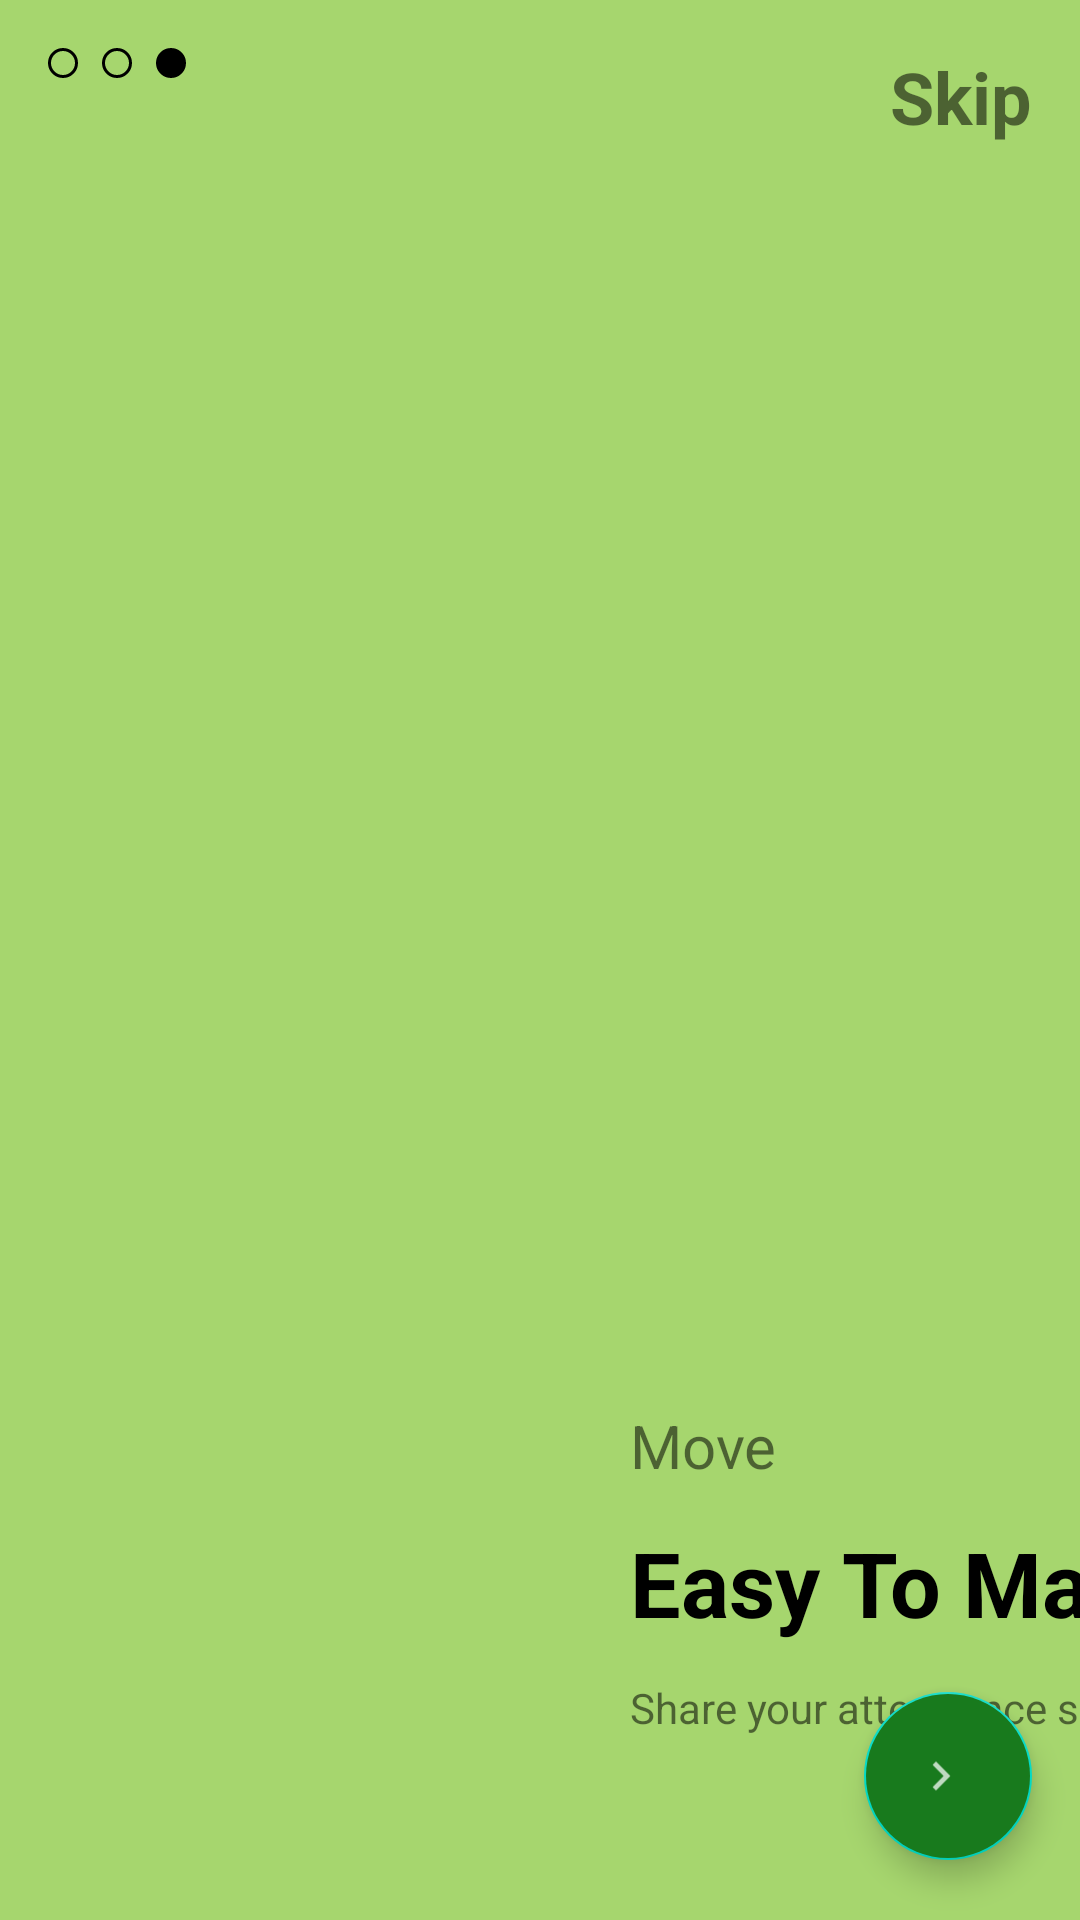

Screen size 1080px x 1920px. Icon name, then its box in pixels as (x1, y1, x2, y2):
chevron right: (864, 1692, 1032, 1860)
circle: (156, 48, 186, 78)
circle blank: (48, 48, 78, 78), (102, 48, 132, 78)
